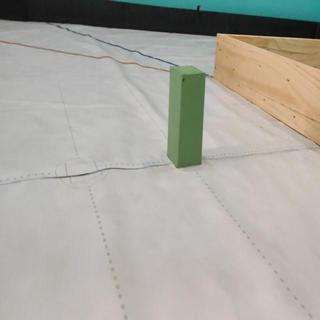greenbox: (165, 61, 207, 170)
